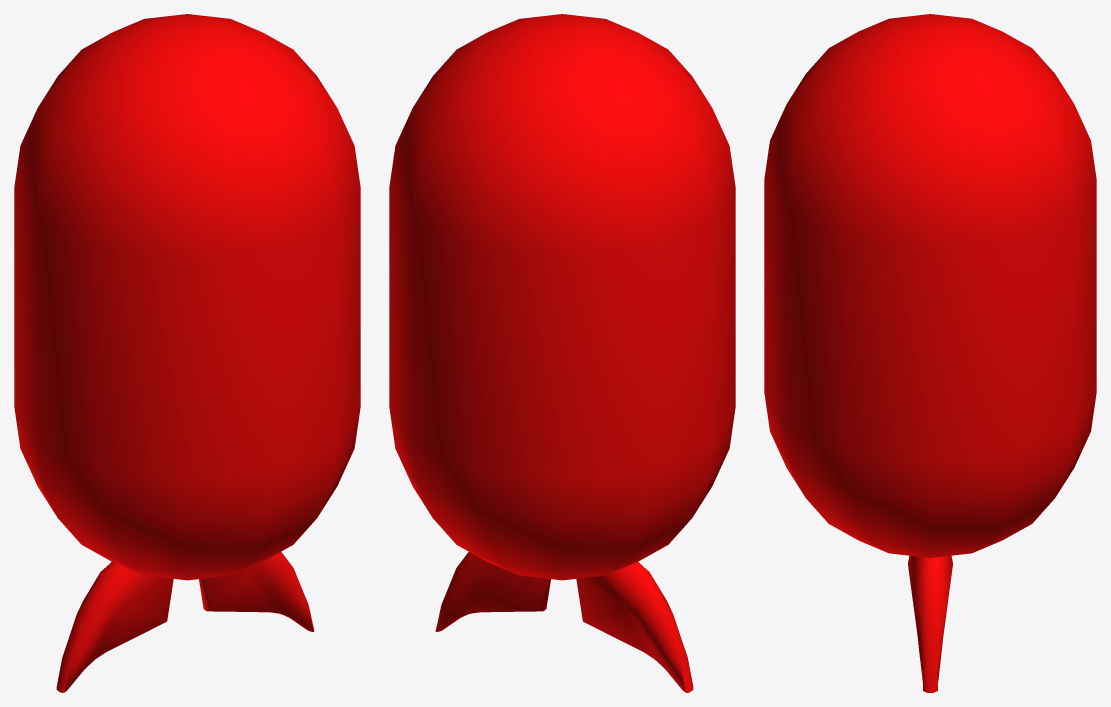
Rendered from Parts_Missile.fbx.
3 views of the same model, side by side, from view 1: azimuth 30°, elevation 25°; view 2: azimuth 150°, elevation 25°; view 3: azimuth 270°, elevation 25° (orthographic). The views are drawn at different scales.
Parts seen in each view (by area): view 1: Capsule001; view 2: Capsule001; view 3: Capsule001.
Boxes of the visible parts, x1,y1,x2,y2 form: Capsule001: (14,14,360,692); Capsule001: (389,14,735,692); Capsule001: (764,14,1096,692).
Size of the model in its own units: 14.53 by 29.26 by 14.53.
